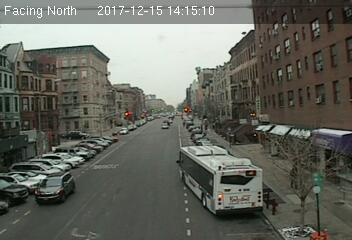bus: (177, 144, 263, 211)
car: (34, 172, 75, 202)
pedestrian: (290, 164, 301, 193)
